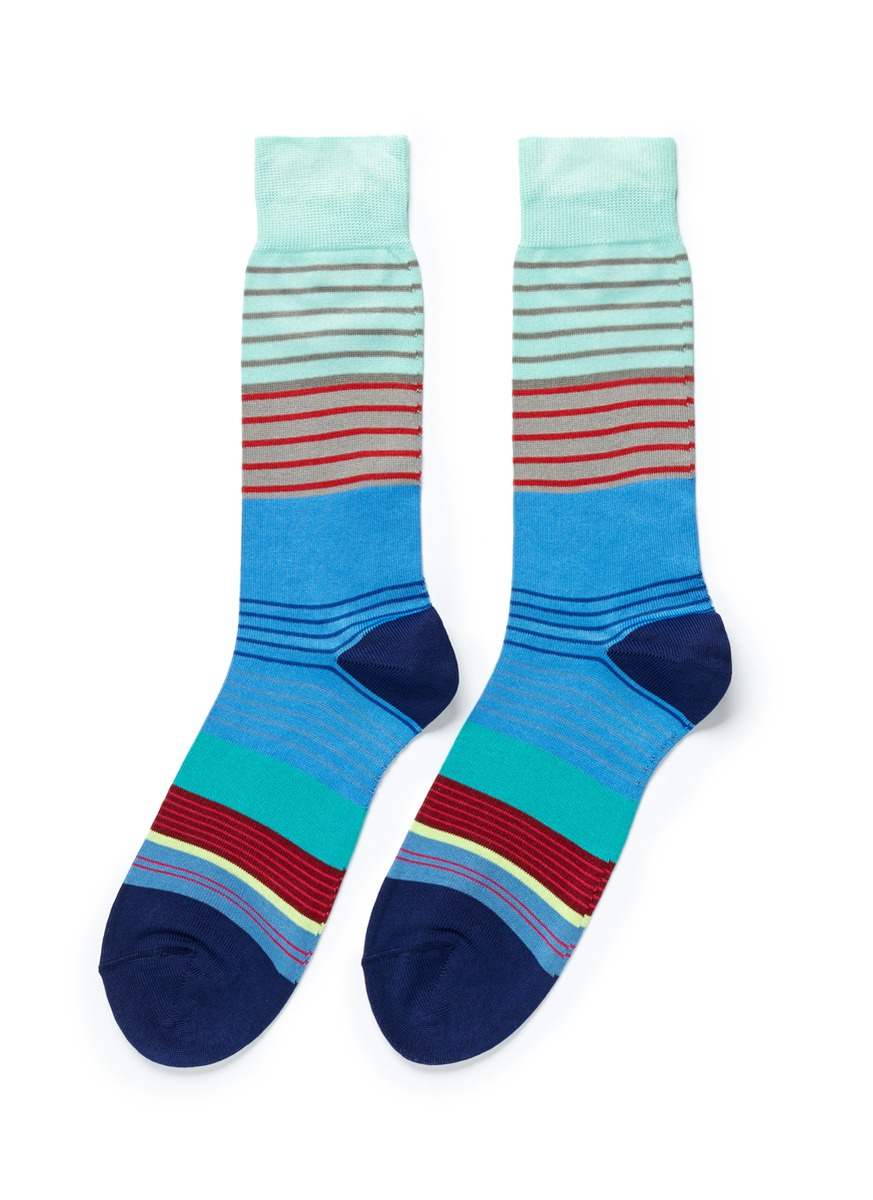flexible: (102, 127, 732, 1073)
